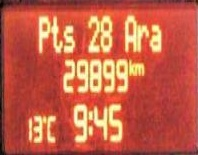1: (26, 111, 31, 143)
2: (86, 12, 99, 54), (62, 56, 75, 93)
3: (32, 111, 41, 143)
4: (92, 103, 107, 143)
5: (108, 101, 123, 143)
8: (100, 12, 113, 52), (89, 54, 101, 91)
9: (72, 101, 86, 143), (102, 54, 115, 91), (76, 54, 88, 93), (115, 56, 128, 91)
X: (36, 11, 49, 53), (123, 11, 136, 53), (49, 13, 62, 54), (136, 20, 149, 51), (63, 20, 75, 51), (150, 20, 161, 53), (46, 111, 57, 143), (87, 105, 92, 137), (135, 60, 144, 75), (128, 56, 134, 76)
